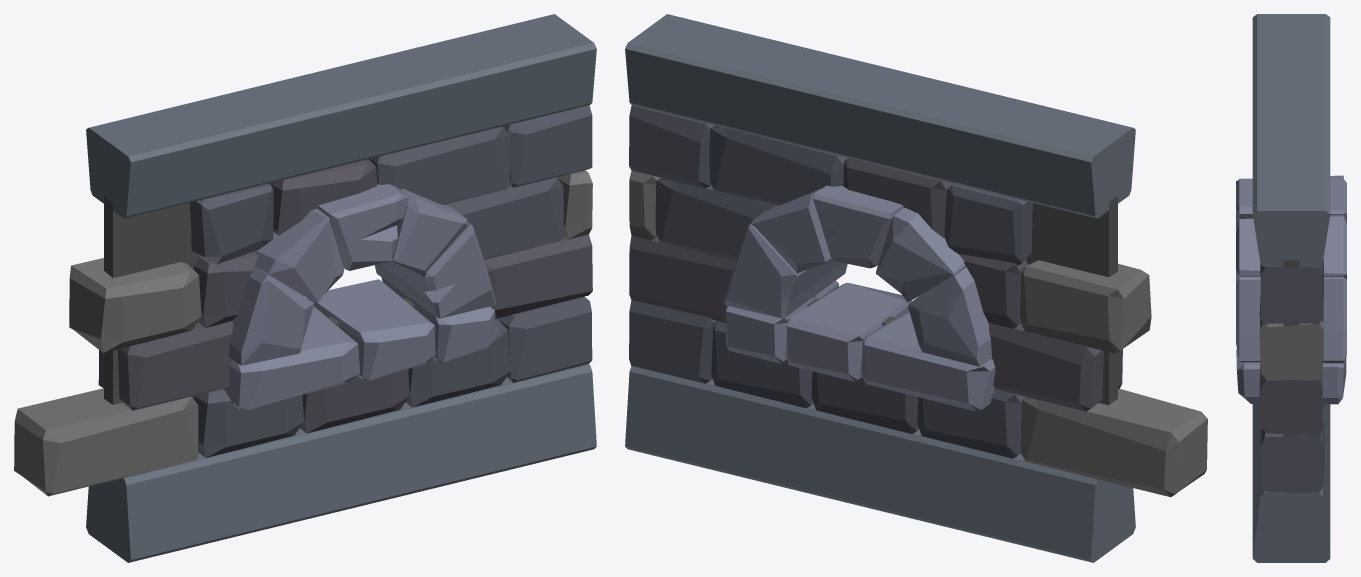
File: Brick_Wall_Window_Left.fbx
3 renders of one model, left to right at view 1: azimuth 30°, elevation 25°; view 2: azimuth 150°, elevation 25°; view 3: azimuth 270°, elevation 25°, orthographic. The views are drawn at different scales.
Visible parts, largest first — view 1: Muro_Ventana_Ladrillo_Izq; view 2: Muro_Ventana_Ladrillo_Izq; view 3: Muro_Ventana_Ladrillo_Izq.
Boxes of the visible parts, left/top/right/bottom form: Muro_Ventana_Ladrillo_Izq: left=14, top=14, right=596, bottom=562; Muro_Ventana_Ladrillo_Izq: left=625, top=14, right=1207, bottom=562; Muro_Ventana_Ladrillo_Izq: left=1236, top=14, right=1346, bottom=562.
Size of the model in its own units: 703 by 500 by 143.
